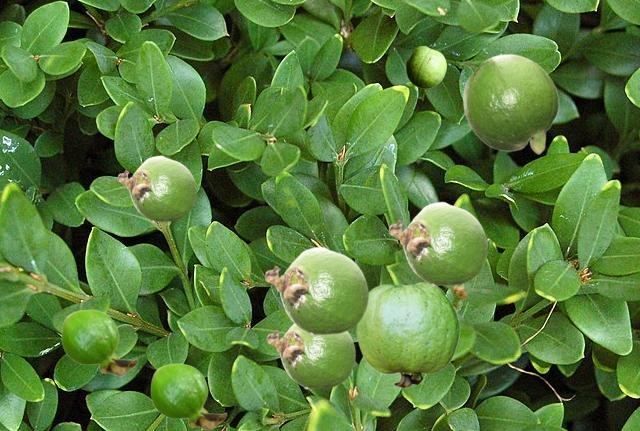guava: (356, 282, 459, 387), (462, 53, 558, 154), (264, 246, 368, 334), (388, 201, 487, 285), (266, 324, 355, 388), (117, 155, 196, 221), (61, 309, 137, 375), (150, 363, 226, 429), (406, 46, 445, 87)
